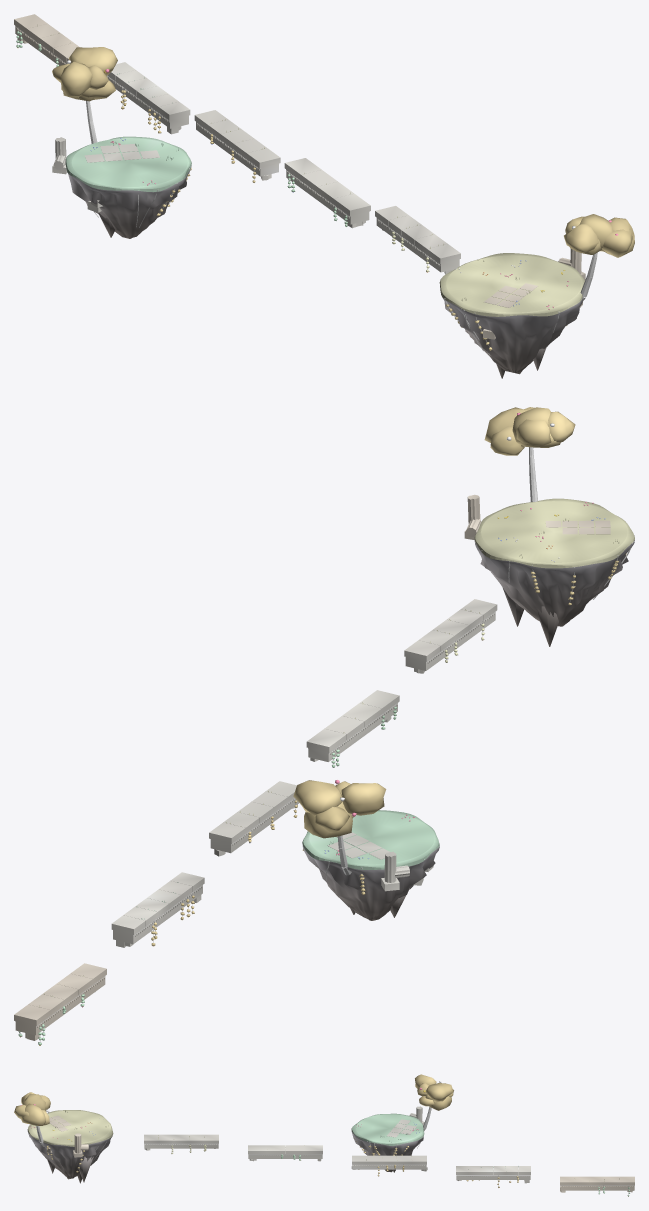
File: SM_Sky_B.fbx
3 views of the same model, one above another, from view 1: azimuth 30°, elevation 25°; view 2: azimuth 150°, elevation 25°; view 3: azimuth 270°, elevation 25° (orthographic). The views are drawn at different scales.
Parts seen in each view (by area): view 1: SM_Sky_B; view 2: SM_Sky_B; view 3: SM_Sky_B.
Part boxes in pixels (x1,y1,x2,y2): SM_Sky_B: (14, 14, 634, 378); SM_Sky_B: (14, 407, 634, 1045); SM_Sky_B: (14, 1074, 634, 1196).
Bounding box in the file's own units: 1459 × 1149 × 5375.
